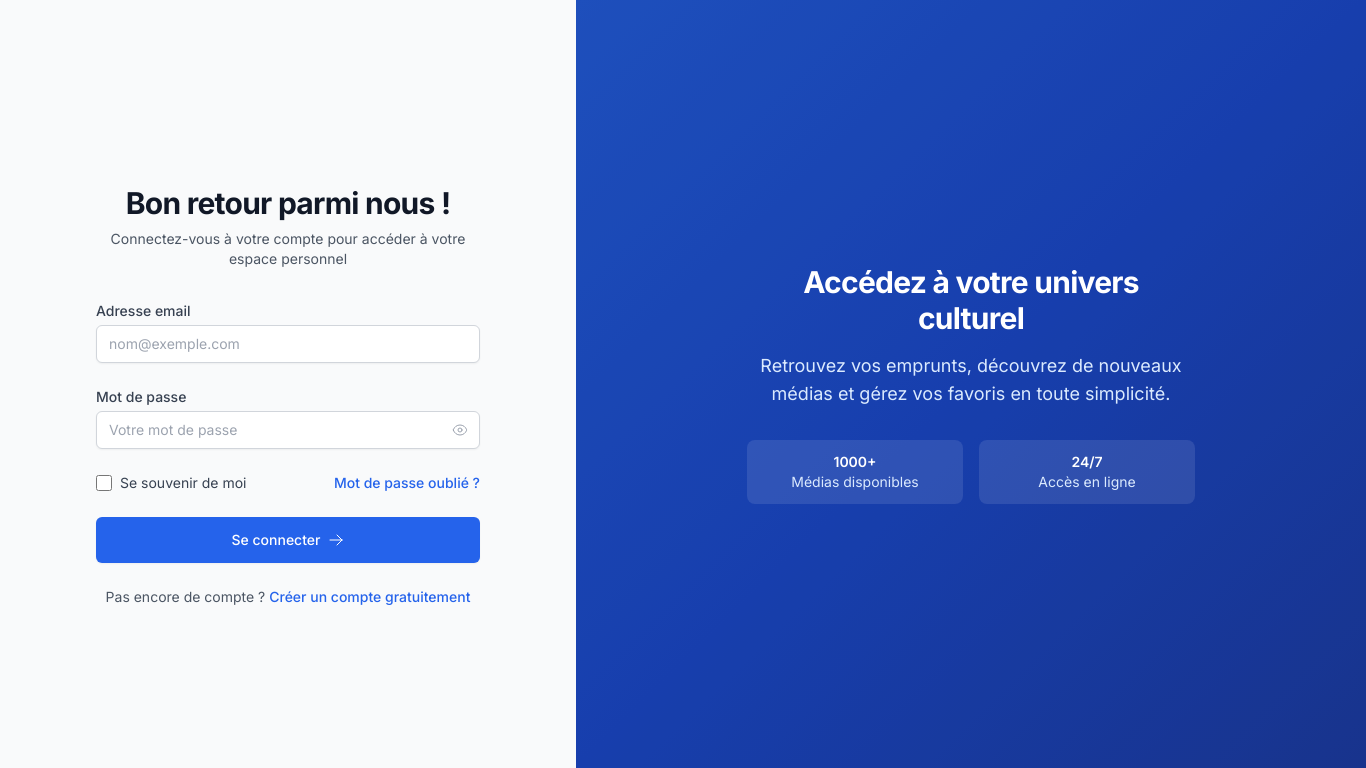
Test: LoginPage › devrait valider les champs requis
Click the button "Se connecter" at (288, 540), box [96,517,480,563]
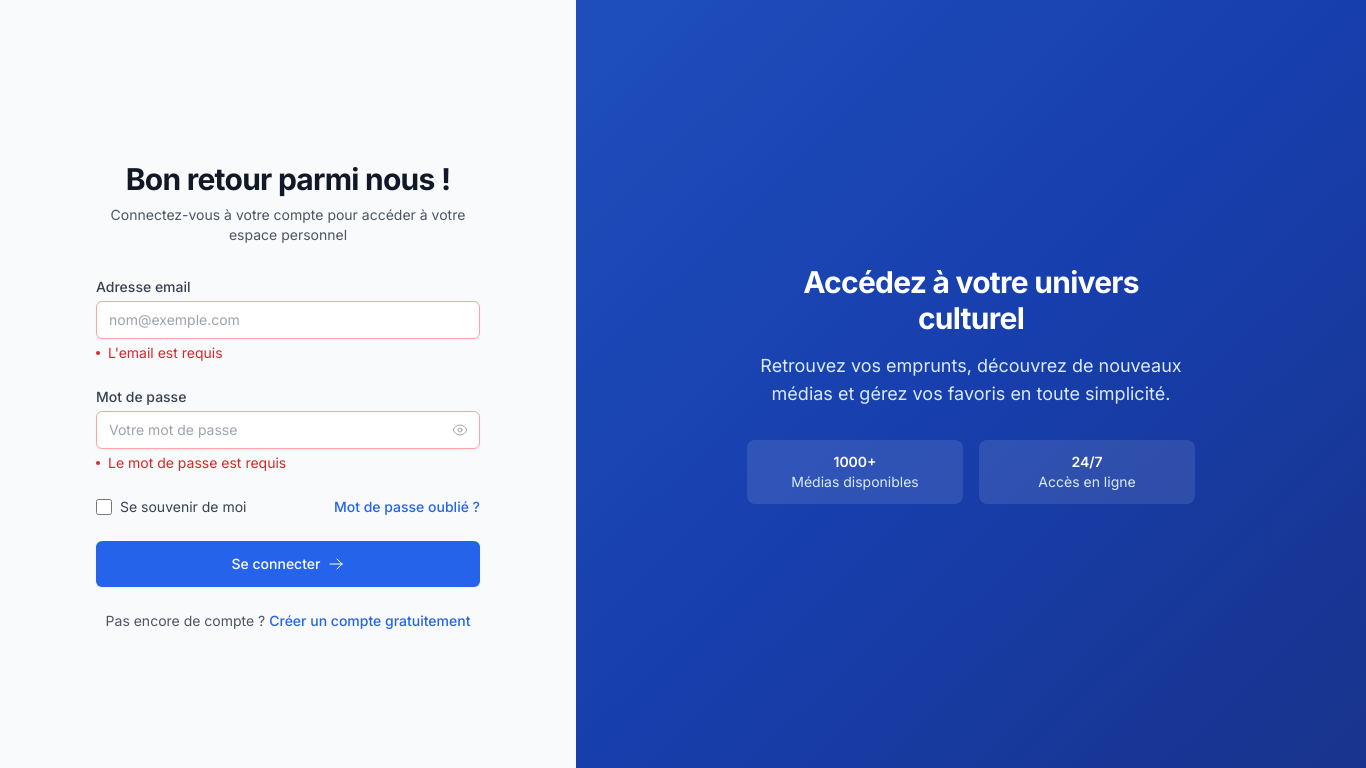
expect the text "L'email est requis" is shown: met, box [96,344,222,361]
expect the text "Le mot de passe est requis" is shown: met, box [96,454,286,471]
